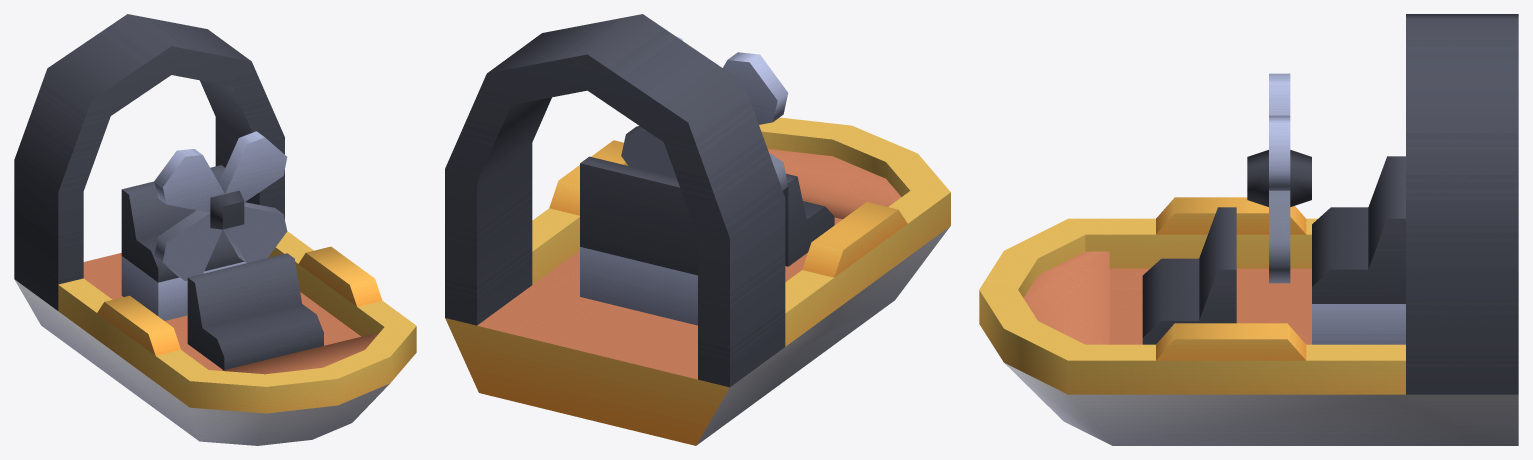
Rendered from boat-fan.glb.
The picture shows the model from 3 angles, left to right: view 1: azimuth 30°, elevation 25°; view 2: azimuth 150°, elevation 25°; view 3: azimuth 270°, elevation 25°; orthographic projection. The views are drawn at different scales.
Parts seen in each view (by area): view 1: boat-fan, boat-fan.001; view 2: boat-fan, boat-fan.001; view 3: boat-fan, boat-fan.001.
Part boxes in pixels (x1,y1,x2,y2): boat-fan: [14, 14, 416, 445]; boat-fan.001: [154, 131, 287, 281]; boat-fan: [445, 14, 950, 445]; boat-fan.001: [621, 36, 788, 190]; boat-fan: [979, 14, 1518, 445]; boat-fan.001: [1247, 73, 1311, 283].
Bounding box in the file's own units: 6.07 × 7.43 × 9.76.
Materials: 1 (1 with a texture image).
